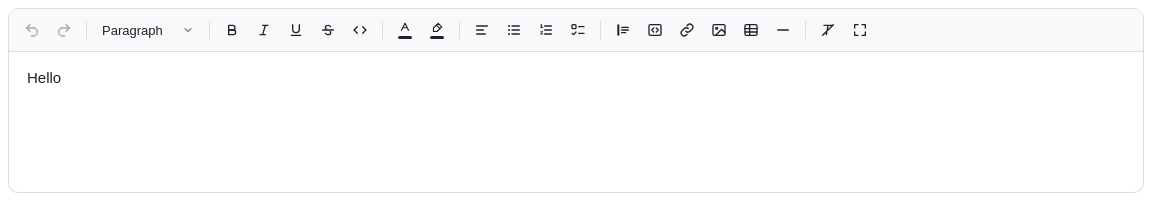
Test: RichTextEditor › applies formatting from the toolbar
Expected: the field with class "richkit-content" is shown, [27,69,61,86]
What coordinates should you click on to do the following:
click the button named "Bold"
I would click on:
 (232, 30)
Its box is [217,15,247,45].
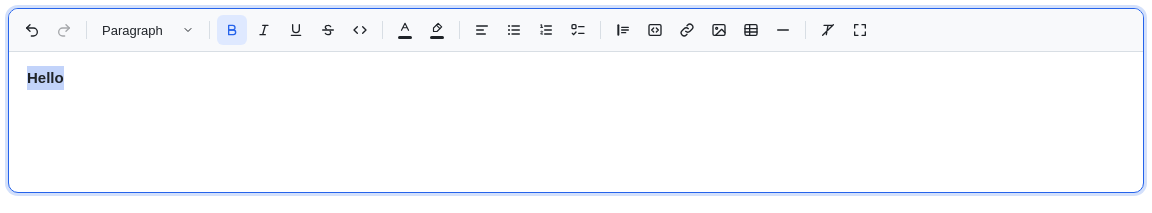
Expected: the button named "Bold" is pressed, [217,15,247,45]
